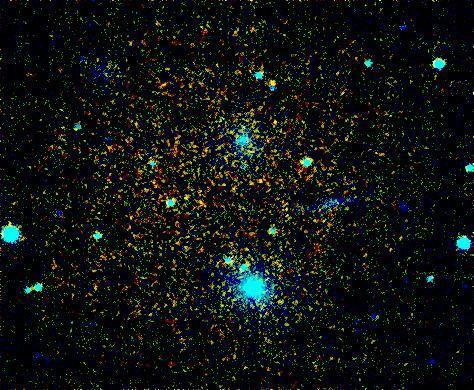star: (257, 66, 287, 96)
